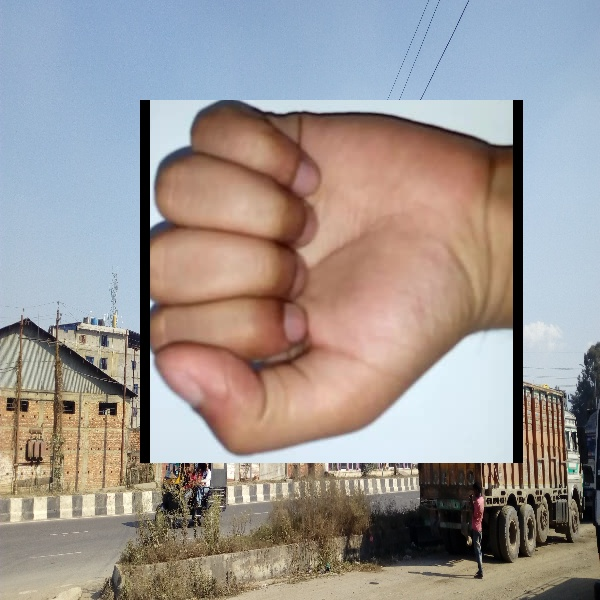F: (140, 100, 523, 463)
